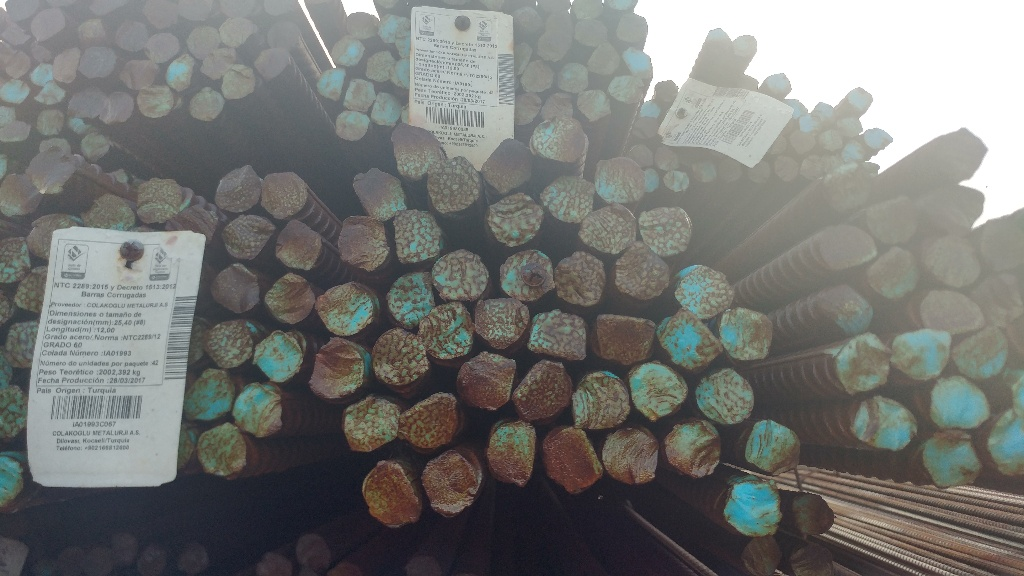dipstick: (659, 308, 723, 374), (543, 428, 603, 494), (363, 459, 420, 526), (455, 351, 516, 413), (420, 450, 476, 516), (612, 242, 671, 302), (723, 480, 783, 539), (514, 359, 572, 420), (852, 397, 918, 450), (834, 332, 891, 393), (922, 429, 984, 485), (372, 329, 430, 387), (400, 391, 457, 450), (928, 377, 992, 429), (674, 265, 734, 320), (487, 421, 538, 485), (571, 373, 629, 429), (630, 363, 685, 422), (593, 312, 655, 364), (600, 428, 658, 483), (664, 422, 721, 477), (417, 303, 474, 358), (343, 395, 398, 451), (307, 342, 363, 397), (429, 156, 481, 215), (890, 330, 950, 381), (695, 371, 755, 422), (487, 192, 543, 246), (579, 204, 637, 255), (925, 236, 984, 286), (745, 420, 799, 474), (719, 307, 774, 360), (390, 124, 443, 179), (554, 250, 604, 308), (475, 297, 529, 350), (317, 281, 371, 334), (919, 289, 984, 333), (499, 249, 554, 301), (480, 138, 532, 193), (432, 250, 487, 302), (953, 328, 1009, 379), (352, 167, 405, 220), (231, 383, 282, 438), (927, 184, 985, 232), (393, 210, 442, 266), (817, 286, 874, 334), (530, 310, 588, 357), (253, 328, 302, 383), (541, 175, 597, 222), (209, 261, 260, 312), (868, 246, 920, 296), (198, 421, 246, 475), (987, 408, 1024, 477), (639, 207, 691, 256), (265, 272, 314, 324), (274, 218, 321, 272), (386, 271, 432, 326), (185, 366, 231, 421), (260, 172, 310, 221), (867, 196, 918, 244), (942, 125, 989, 177), (822, 162, 872, 210), (204, 318, 252, 368), (222, 214, 274, 260), (820, 225, 876, 267), (980, 273, 1024, 324), (534, 119, 585, 163), (27, 215, 76, 260), (24, 154, 76, 196), (983, 215, 1023, 268), (215, 167, 263, 211), (595, 158, 641, 202), (136, 177, 180, 221), (165, 205, 218, 241), (2, 172, 43, 218), (794, 493, 835, 536), (5, 318, 40, 368), (14, 264, 48, 314), (89, 193, 135, 229), (1, 383, 29, 441), (742, 536, 781, 573), (1, 237, 30, 285), (1, 454, 25, 512), (189, 85, 225, 123), (76, 47, 116, 79), (221, 64, 257, 99), (252, 47, 292, 78), (119, 58, 159, 89), (521, 59, 556, 93), (99, 91, 134, 125), (31, 9, 66, 43), (68, 85, 105, 117), (51, 46, 83, 83), (792, 546, 831, 576), (343, 78, 377, 112), (620, 46, 653, 81), (137, 85, 172, 118), (175, 543, 212, 574), (537, 29, 574, 59), (200, 48, 238, 77), (115, 20, 148, 53), (296, 535, 329, 568), (576, 89, 611, 120), (371, 90, 401, 126), (587, 42, 619, 75), (336, 110, 370, 141), (186, 25, 219, 56), (331, 37, 365, 67), (143, 32, 179, 60), (556, 62, 589, 92), (512, 91, 541, 125), (165, 55, 194, 89), (607, 76, 643, 103), (573, 21, 609, 48), (138, 543, 169, 574), (377, 14, 409, 44), (316, 67, 346, 99), (111, 535, 139, 569), (267, 21, 302, 48), (219, 17, 254, 44), (366, 49, 393, 83), (616, 14, 647, 43), (143, 1, 178, 26), (78, 18, 107, 48), (542, 93, 573, 120), (256, 552, 290, 576), (56, 547, 84, 576), (34, 108, 64, 135), (83, 546, 113, 573), (513, 7, 545, 32), (80, 133, 110, 159), (387, 58, 412, 88), (178, 1, 215, 21), (344, 13, 376, 36), (178, 424, 192, 476), (4, 51, 30, 78), (1, 80, 29, 105), (2, 120, 32, 143), (775, 154, 800, 181), (33, 84, 65, 105), (406, 557, 441, 576), (1, 288, 17, 329), (5, 21, 30, 47), (222, 1, 258, 19), (29, 61, 54, 86), (790, 129, 815, 153), (691, 159, 716, 183), (634, 116, 658, 141), (627, 143, 652, 167), (764, 73, 792, 94), (705, 29, 732, 50), (39, 139, 72, 156), (864, 129, 892, 149), (654, 146, 678, 169), (847, 87, 872, 109), (731, 35, 757, 56), (717, 158, 743, 179), (663, 171, 689, 192), (89, 1, 128, 15), (516, 41, 533, 73), (6, 1, 38, 18), (836, 116, 863, 136), (394, 26, 410, 59), (800, 157, 823, 179), (655, 79, 678, 101), (840, 139, 865, 159), (782, 99, 808, 118), (746, 162, 770, 182), (571, 1, 601, 17), (819, 130, 843, 149), (265, 1, 295, 16), (641, 168, 658, 193), (544, 15, 574, 29), (766, 134, 787, 153), (812, 103, 834, 121), (32, 44, 54, 61), (798, 114, 817, 131), (539, 1, 571, 11), (1, 106, 18, 123), (606, 1, 636, 10), (639, 102, 658, 116)
